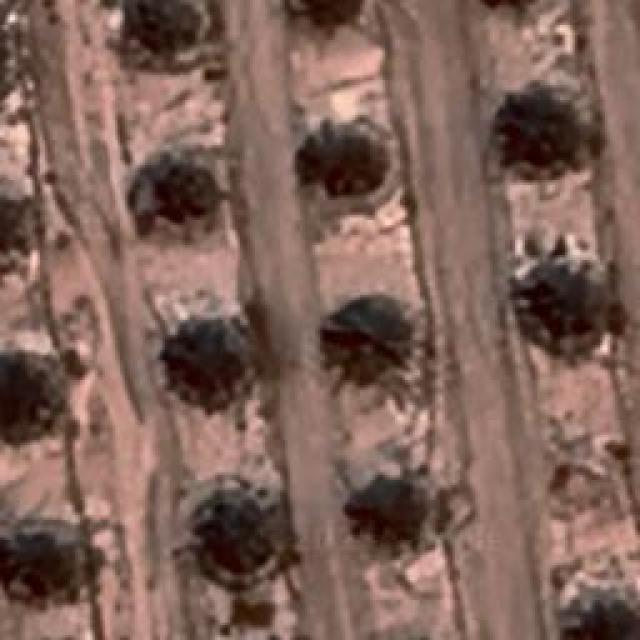PalmTree: (526, 238, 622, 374), (321, 288, 419, 382), (498, 87, 604, 165), (172, 316, 262, 404), (0, 506, 88, 596), (198, 492, 276, 582), (138, 145, 228, 220), (301, 123, 386, 191), (358, 471, 422, 554), (555, 583, 640, 640), (125, 0, 207, 58), (0, 348, 48, 446), (0, 183, 48, 281), (287, 0, 372, 33)
